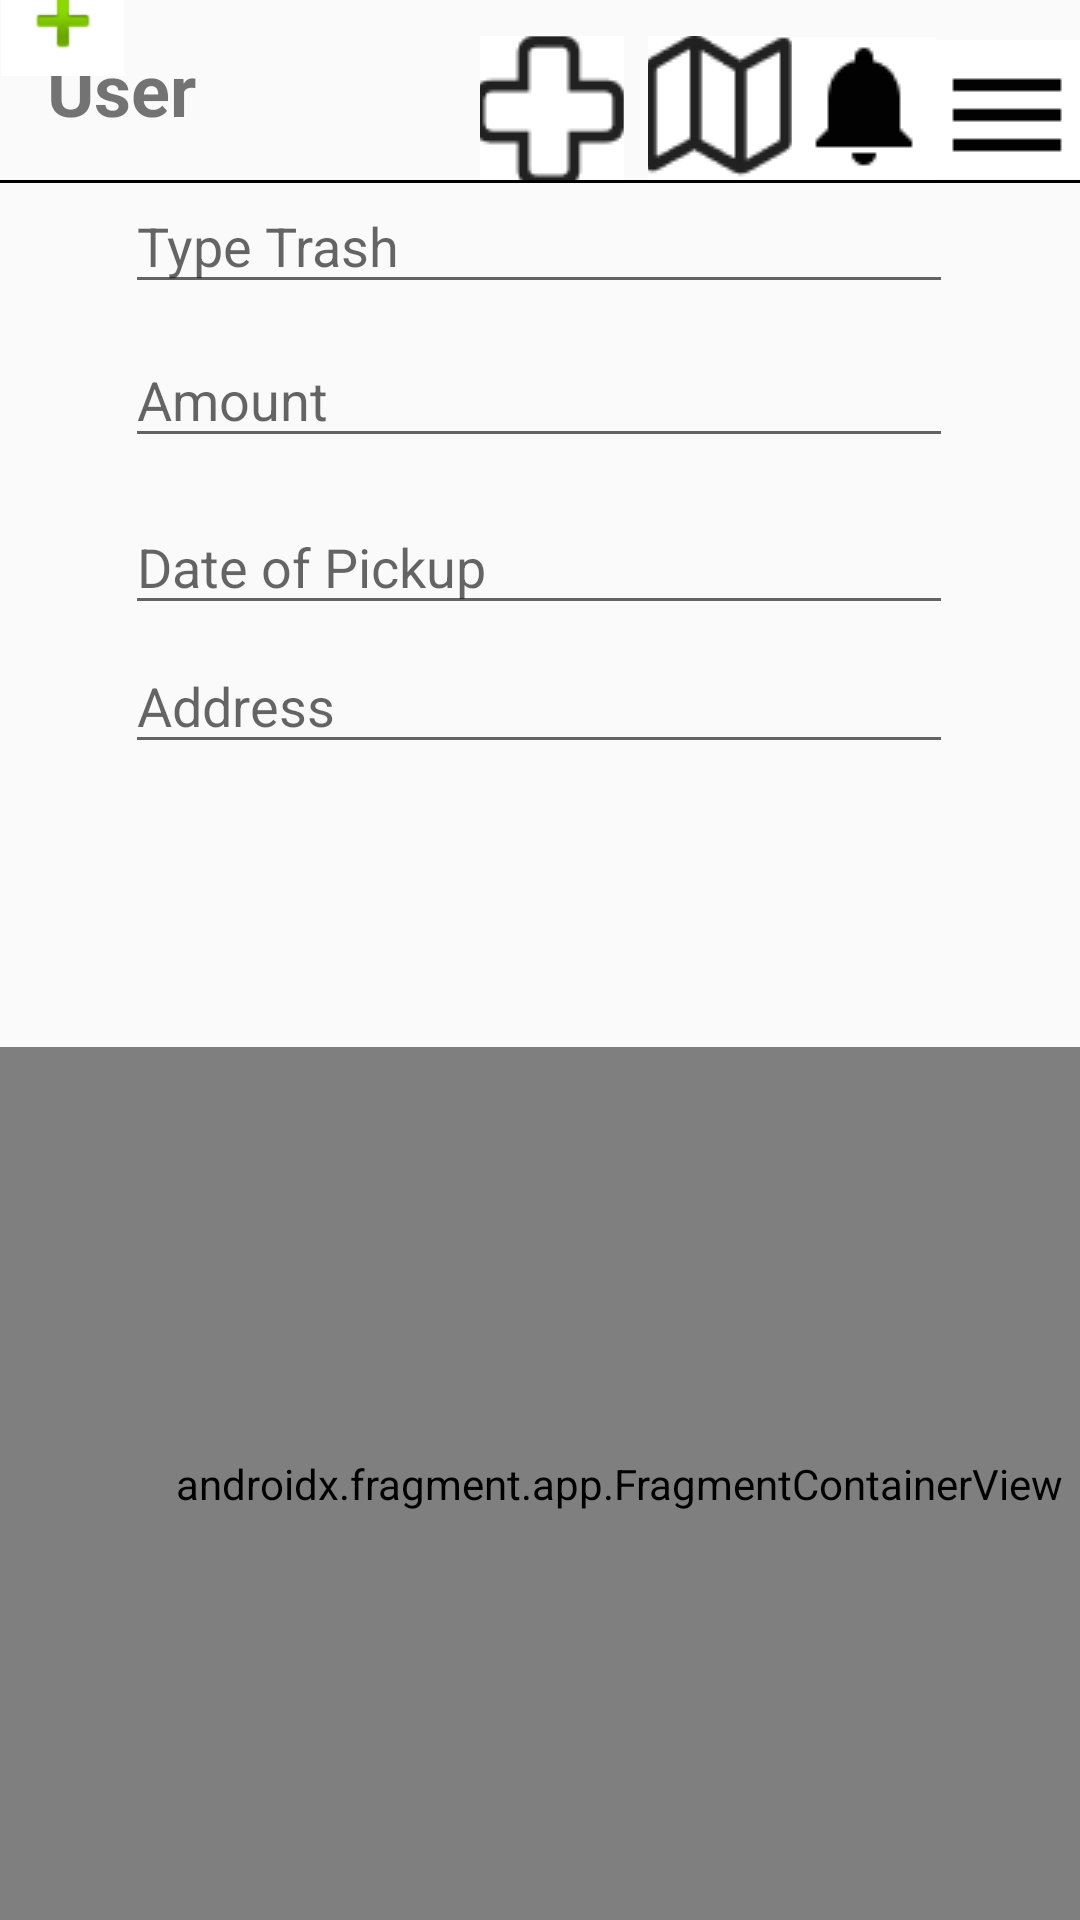

Point at icon controls on the screen. Image size 1080px x 1920px, points as (x=x, y=y).
map: (x=720, y=106)
menu: (x=1007, y=115)
notifcation: (x=864, y=106)
